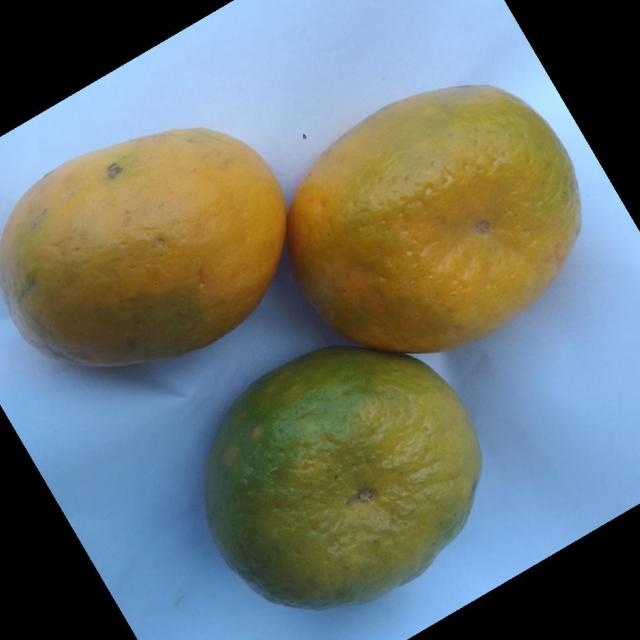agrume: (286, 83, 582, 354), (203, 343, 482, 610), (1, 125, 287, 368)
